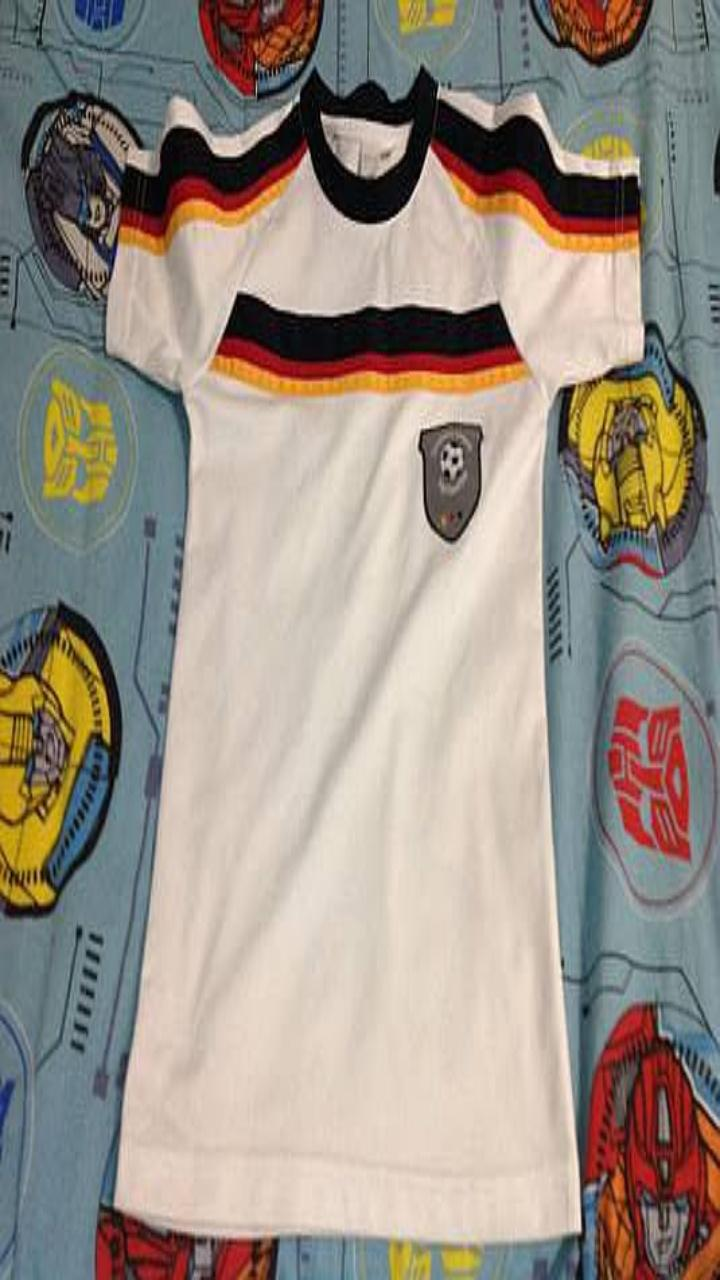T-Shirt: (107, 70, 642, 1241)
